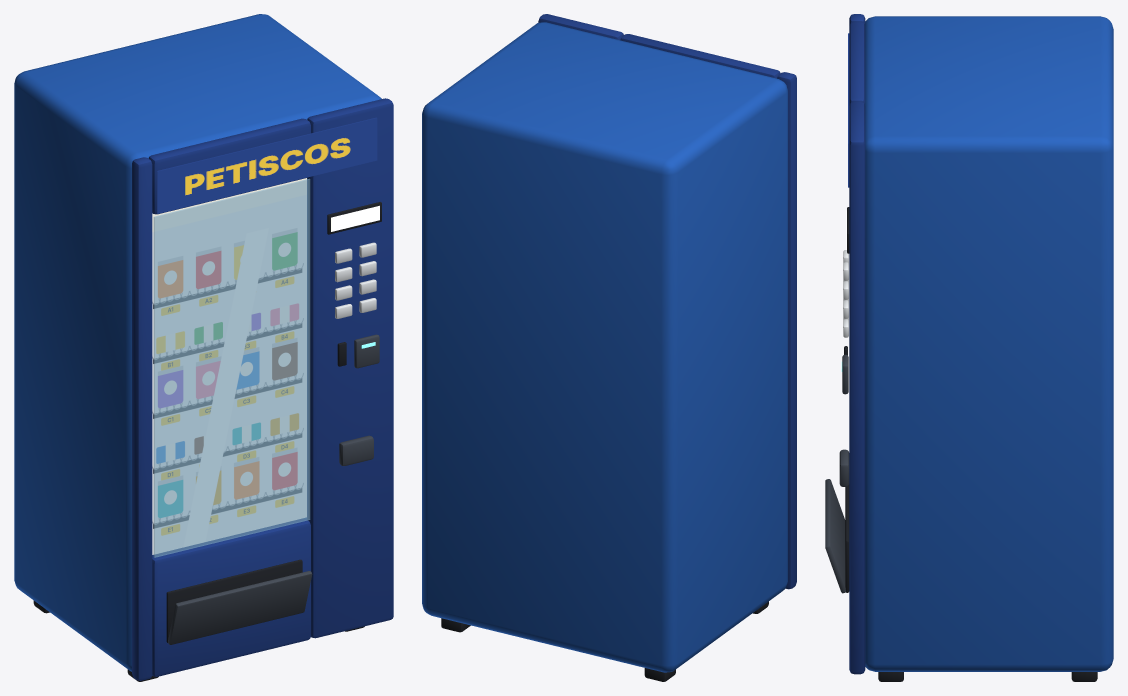
File: maquina_venda_lanches.glb
The picture shows the model from 3 angles, left to right: view 1: azimuth 30°, elevation 25°; view 2: azimuth 150°, elevation 25°; view 3: azimuth 270°, elevation 25°; orthographic projection. The views are drawn at different scales.
Visible parts, largest first — view 1: maquina_venda_lanches; view 2: maquina_venda_lanches; view 3: maquina_venda_lanches.
Part boxes in pixels (x1=…): maquina_venda_lanches: x1=14, y1=14, x2=393, y2=681; maquina_venda_lanches: x1=422, y1=14, x2=796, y2=681; maquina_venda_lanches: x1=825, y1=14, x2=1113, y2=681.
Bounding box in the file's own units: 0.95 × 1.88 × 0.8942.
Materials: 6 (3 with a texture image).
